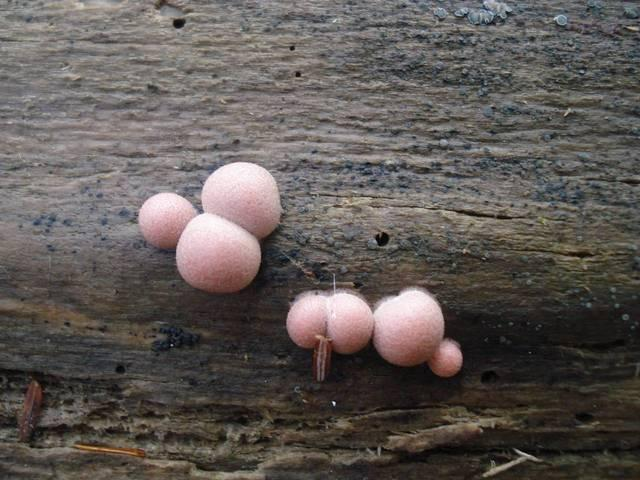poisonous_mushroom: (137, 160, 284, 294), (285, 278, 463, 382), (285, 286, 373, 382), (174, 212, 261, 294), (200, 160, 283, 239), (372, 286, 445, 367), (137, 191, 196, 250), (427, 337, 463, 377)
